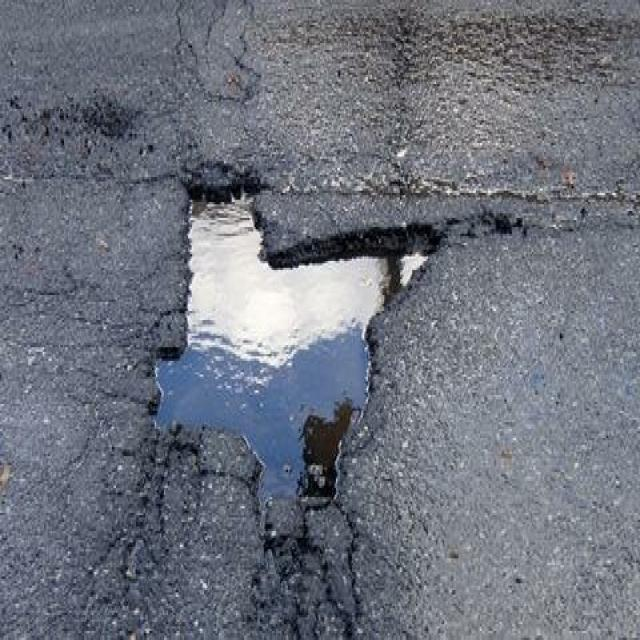pothole: (70, 134, 534, 543)
